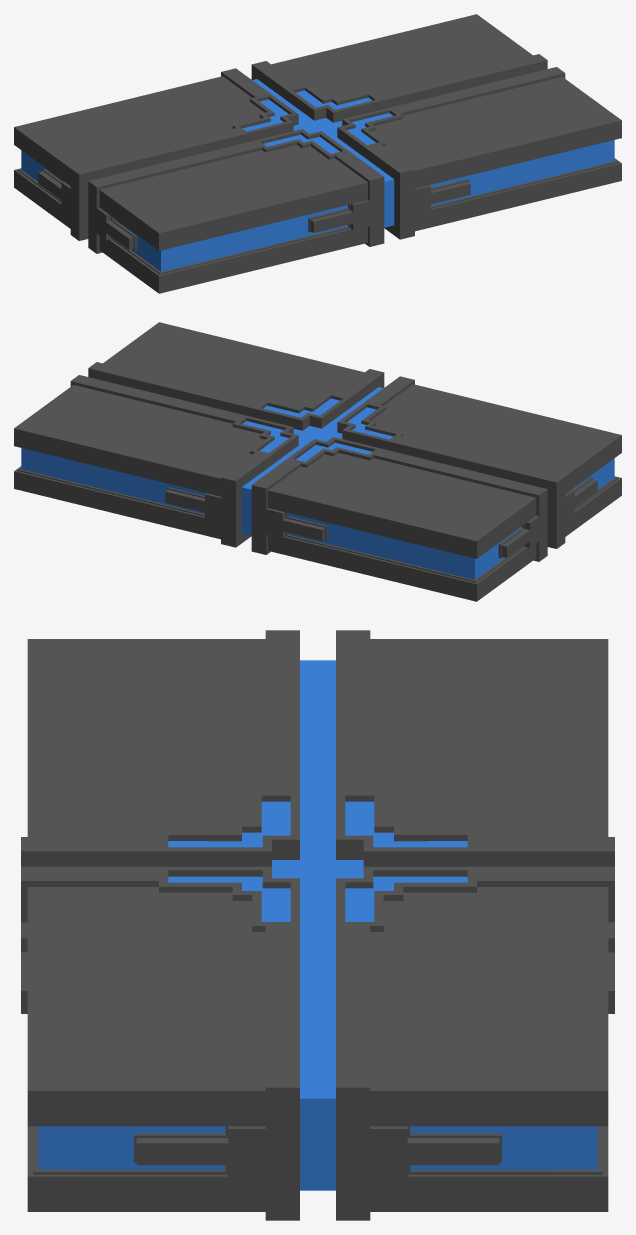
3 renders of one model, top to bottom at view 1: azimuth 30°, elevation 25°; view 2: azimuth 150°, elevation 25°; view 3: azimuth 270°, elevation 25°, orthographic. The views are drawn at different scales.
Parts seen in each view (by area): view 1: SM_MovingPlatform4_low; view 2: SM_MovingPlatform4_low; view 3: SM_MovingPlatform4_low.
Boxes of the visible parts, box(x1,y1,x2,y2) form: SM_MovingPlatform4_low: box(14, 14, 621, 293); SM_MovingPlatform4_low: box(14, 322, 621, 601); SM_MovingPlatform4_low: box(21, 630, 614, 1220).
Bounding box in the file's own units: 404 × 54.87 × 222.
